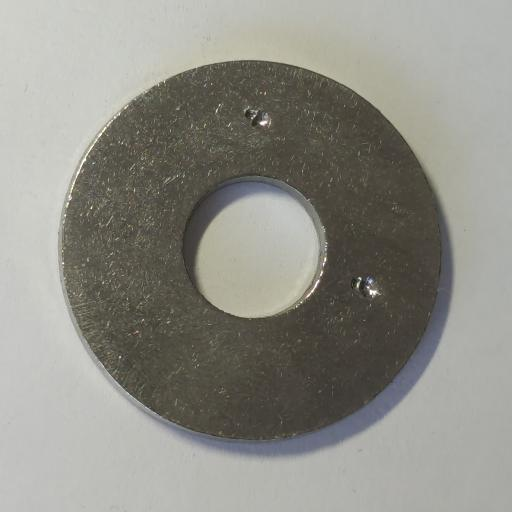circular_cavity: (351, 276, 385, 300), (245, 109, 271, 128)
